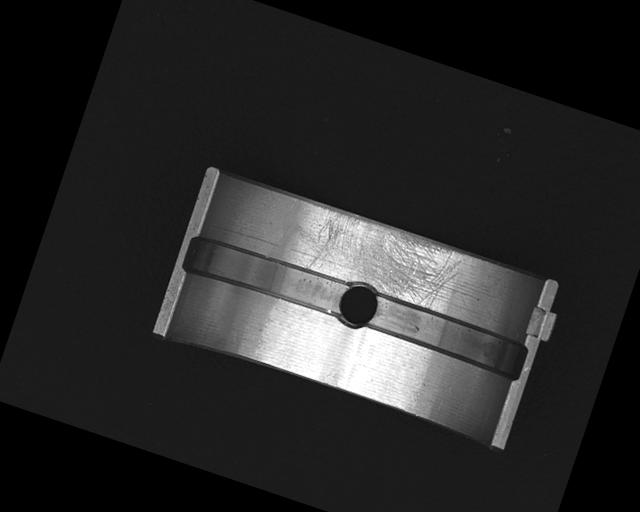gap: (181, 229, 352, 322), (366, 295, 531, 379)
hole: (333, 277, 382, 334)
scratch: (293, 202, 466, 315)
